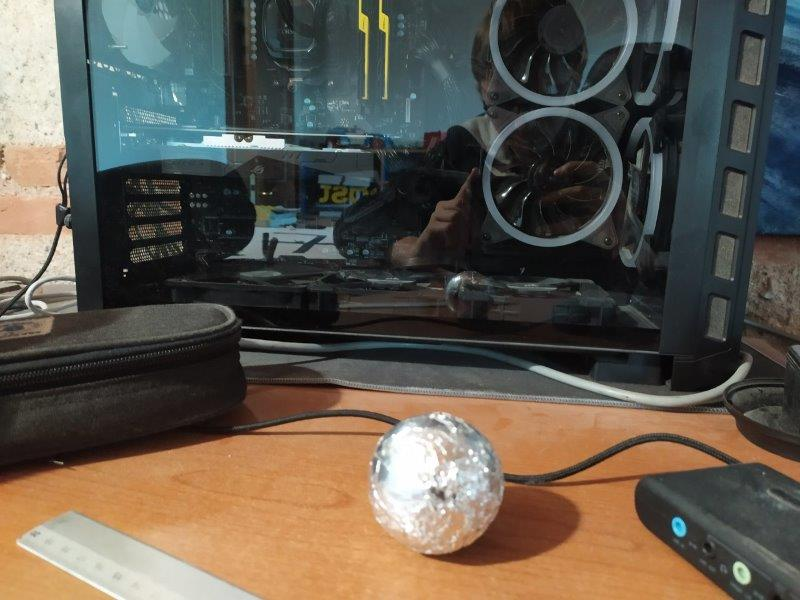bianca: (367, 408, 506, 555)
